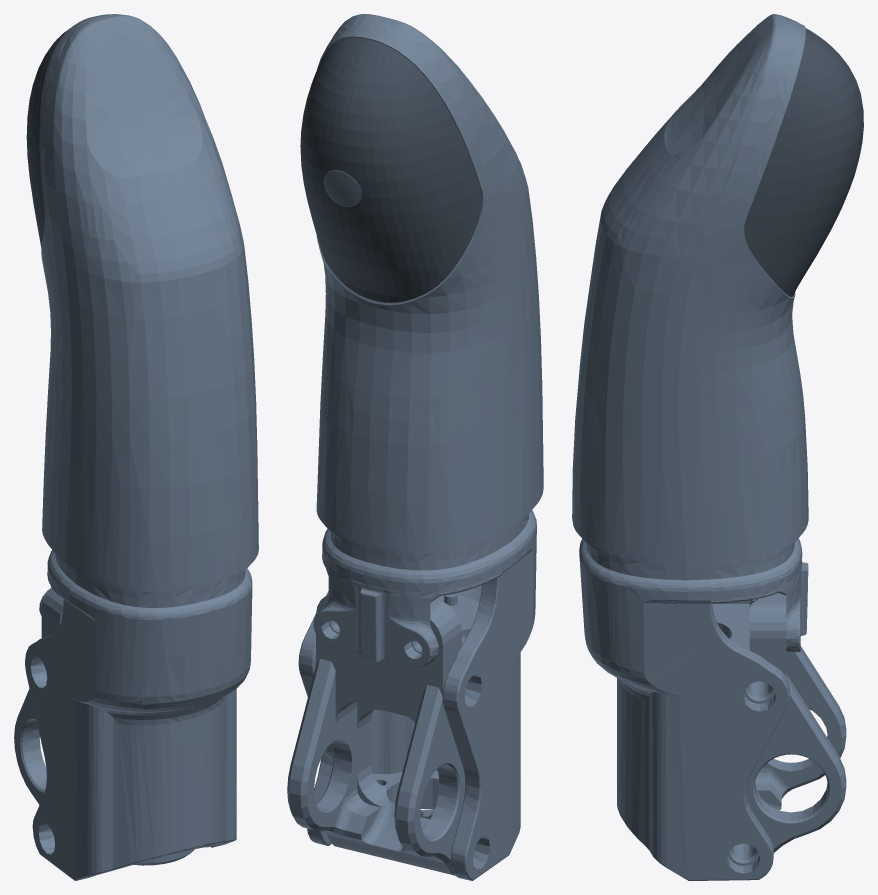
The model's file is thumb_distal.glb.
3 views of the same model, side by side, from view 1: azimuth 30°, elevation 25°; view 2: azimuth 150°, elevation 25°; view 3: azimuth 270°, elevation 25° (orthographic). The views are drawn at different scales.
Visible parts, largest first — view 1: L_thumb_dist; view 2: L_thumb_dist; view 3: L_thumb_dist.
Part boxes in pixels (box(x1,y1,x2,y2)): L_thumb_dist: box(14, 14, 258, 880); L_thumb_dist: box(287, 14, 543, 880); L_thumb_dist: box(572, 14, 863, 880).
Bounding box in the file's own units: 0.022 × 0.099 × 0.0318.
